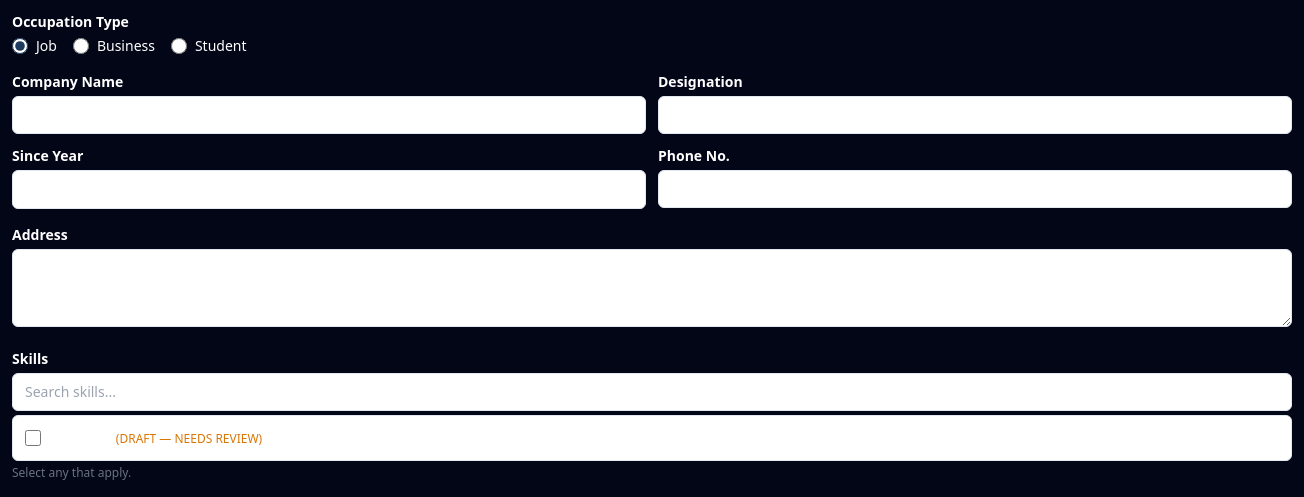
Test: Tab 4 — Occupation › shows Designation only for a Job, and clears it on switching to Business
Check: the field labelled "Designation" holds "Manager", box 658,96 -> 1292,134
Click the radio button labelled "Business" at (81, 46), box 73,38 -> 89,54
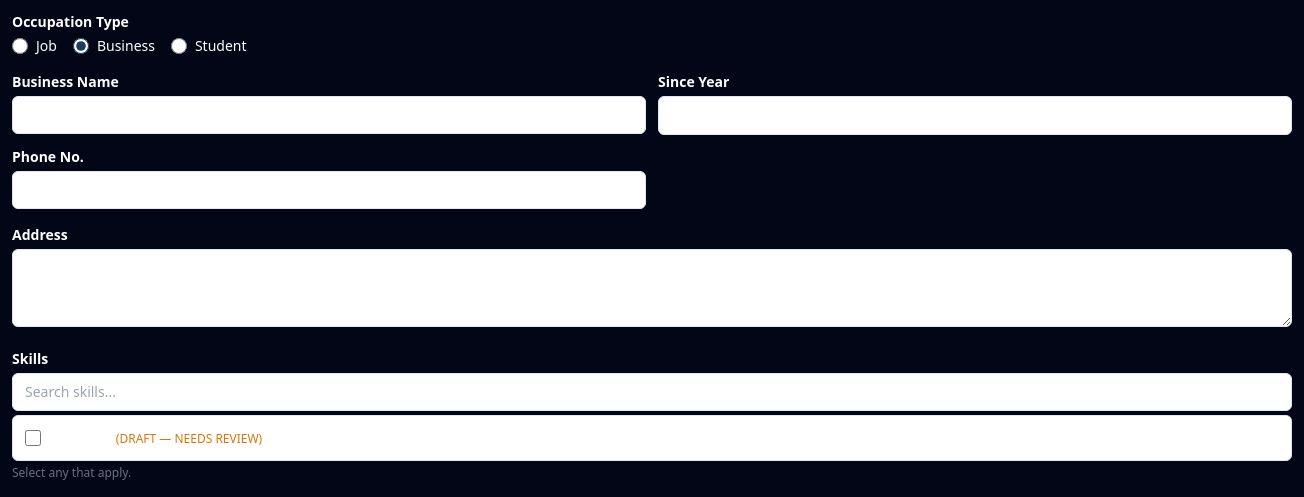
Check: the text "Business" is shown, box 97,36 -> 155,56
Check: the text labelled "Designation" is gone
